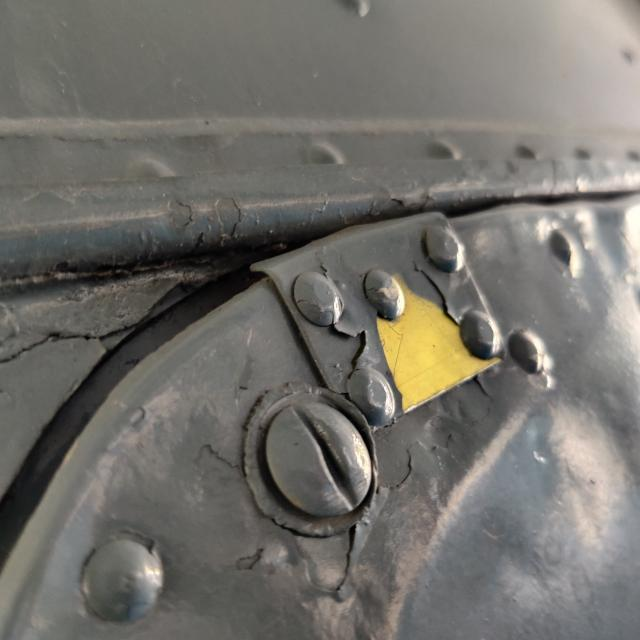Paint-off: (377, 275, 500, 412)
